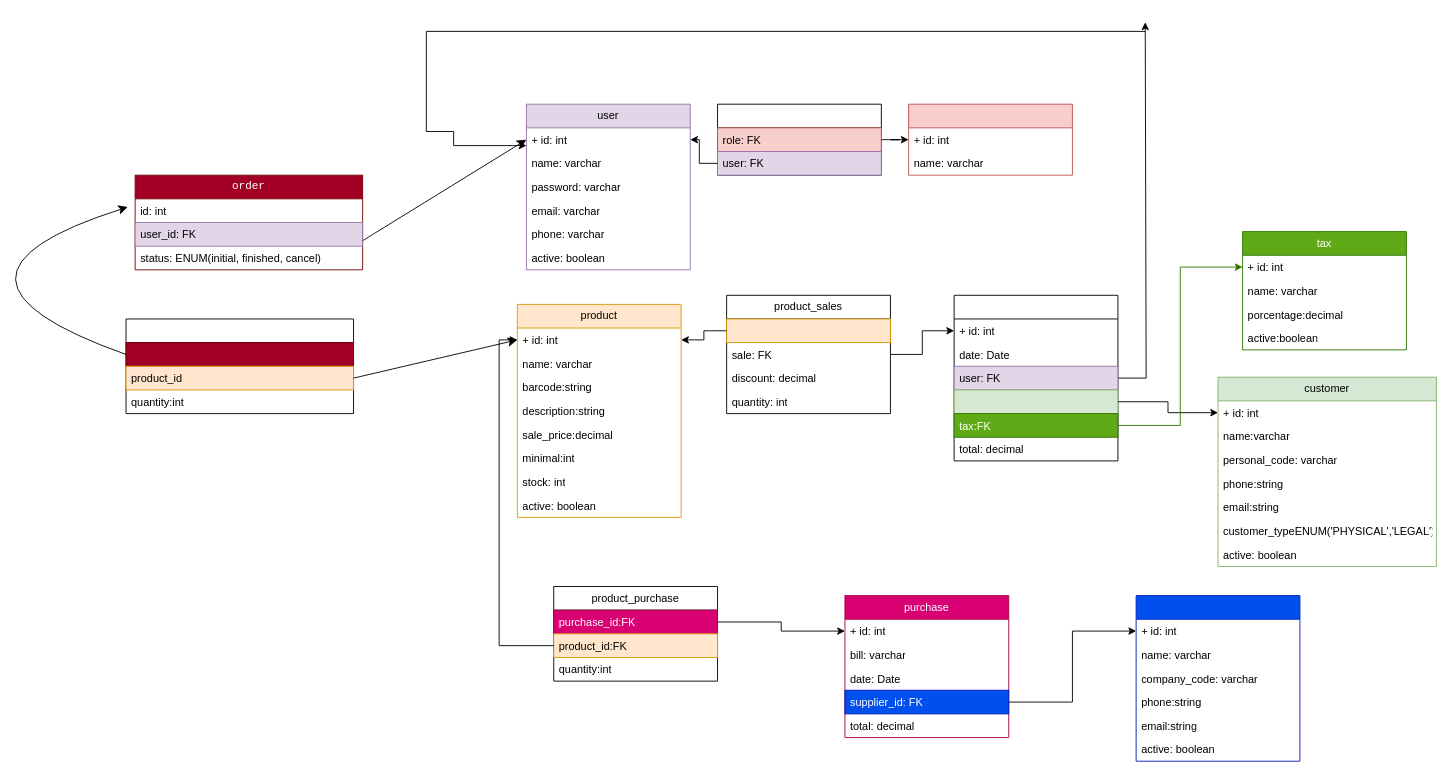
The diagram is 1453 pixels wide and 780 high, and some of its shapes have lost their labels. Here are the shapes that lost their labels. From the top down, the box of each, then its label:
(717, 103, 881, 175): user_role
(908, 103, 1072, 175): role
(726, 318, 890, 343): product: FK
(125, 342, 354, 366): order_id:FK
(125, 318, 354, 414): order_product
(953, 294, 1118, 461): sale
(953, 389, 1118, 414): client:FK
(1135, 595, 1300, 761): supplier
